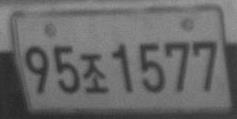1: (109, 42, 135, 92)
5: (139, 43, 165, 92), (53, 45, 80, 92)
7: (192, 41, 217, 91), (165, 41, 189, 91)
9: (24, 45, 49, 93)
조: (81, 53, 108, 93)
